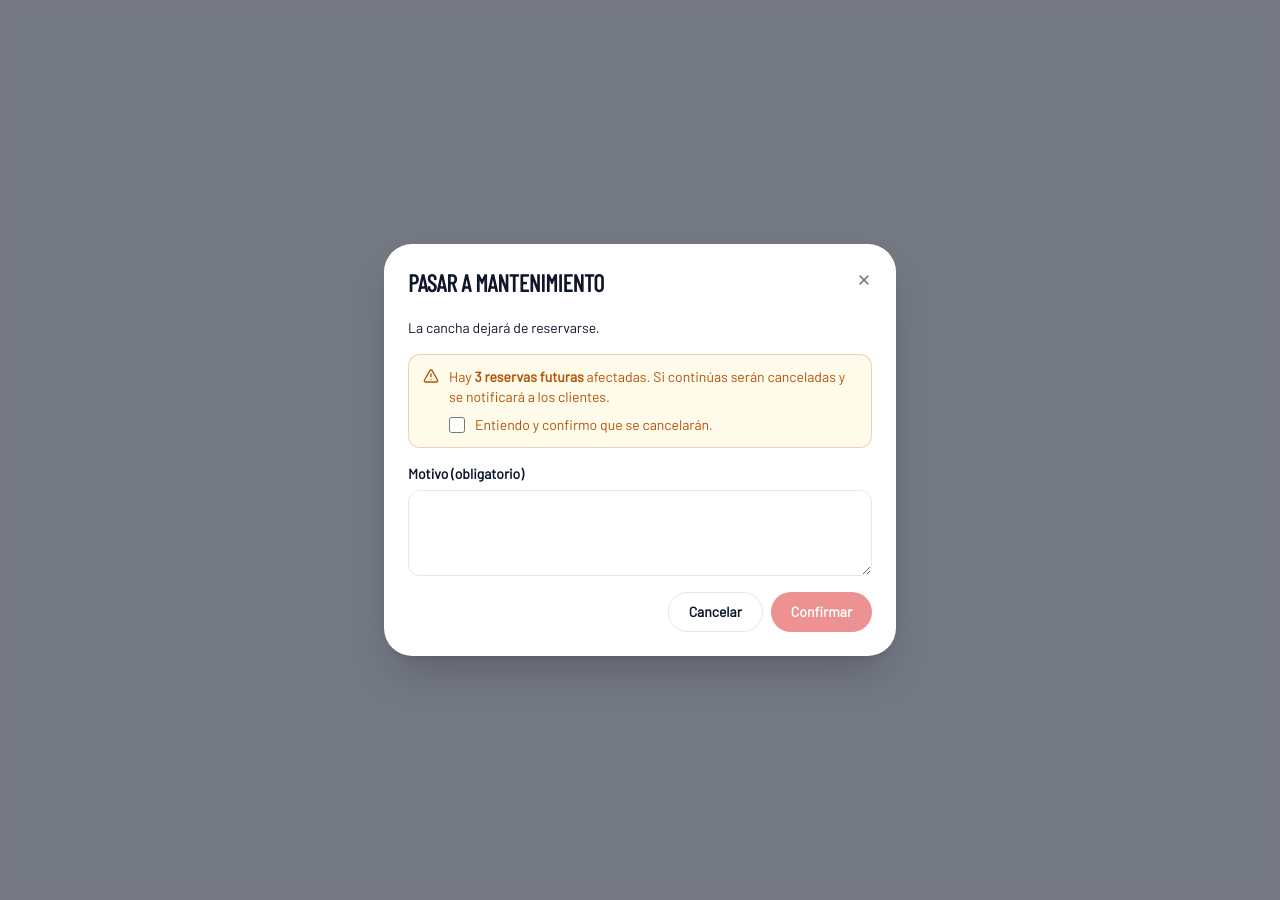
Scenario: ModalCambioEstado › con reservas futuras advierte y exige confirmación explícita
Later steps or results of the test are not shown.
expect the text "3 reservas futuras" is shown: met, box [474,368,584,385]
Type "Mantenimiento general" into the text box labelled "Motivo (obligatorio)" at [640, 533], box [408,490,872,576]
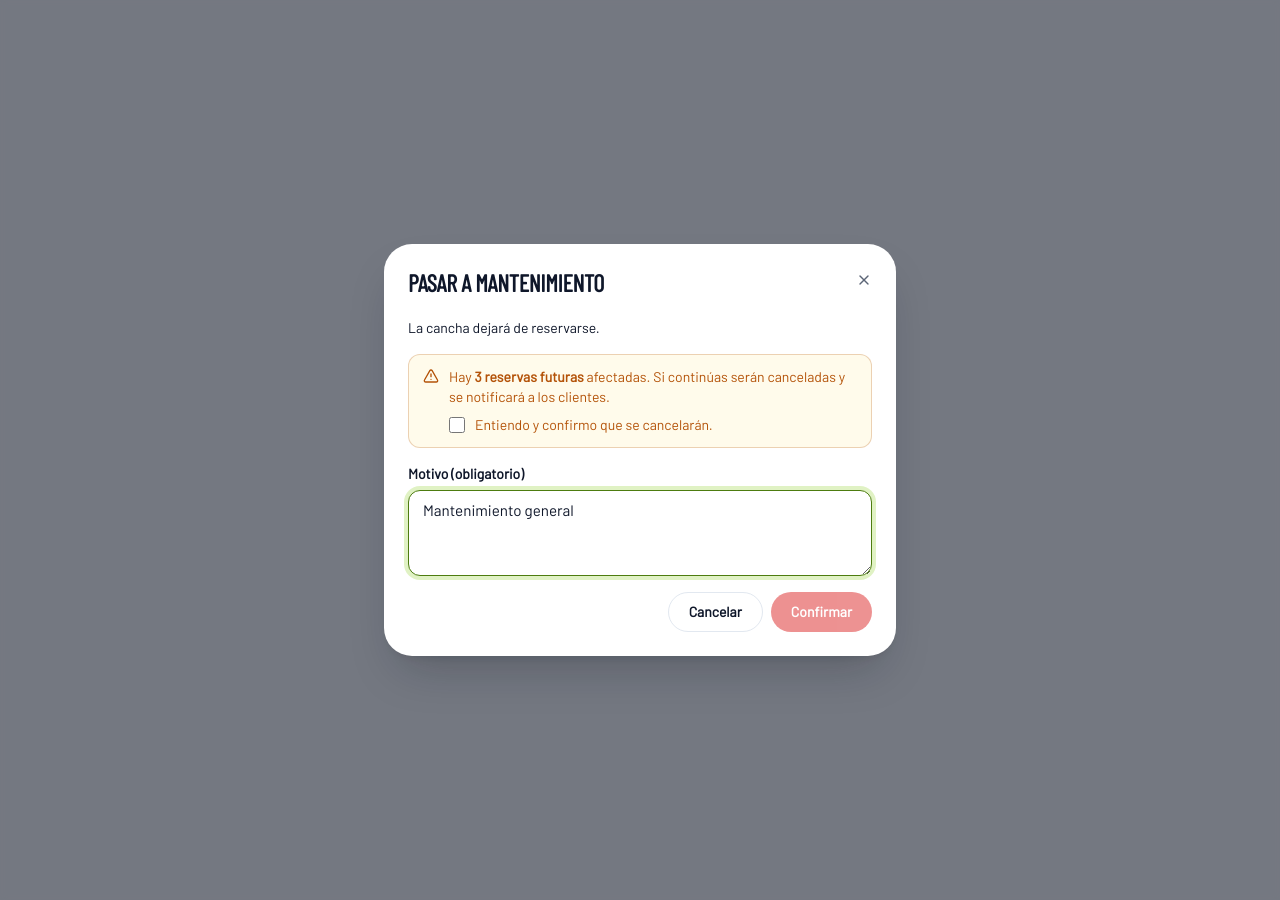
expect the button "Confirmar" is disabled: met, box [771,592,872,632]
Click the checkbox labelled "Entiendo y confirmo que se cancelarán." at [457, 425], box [449,417,465,433]
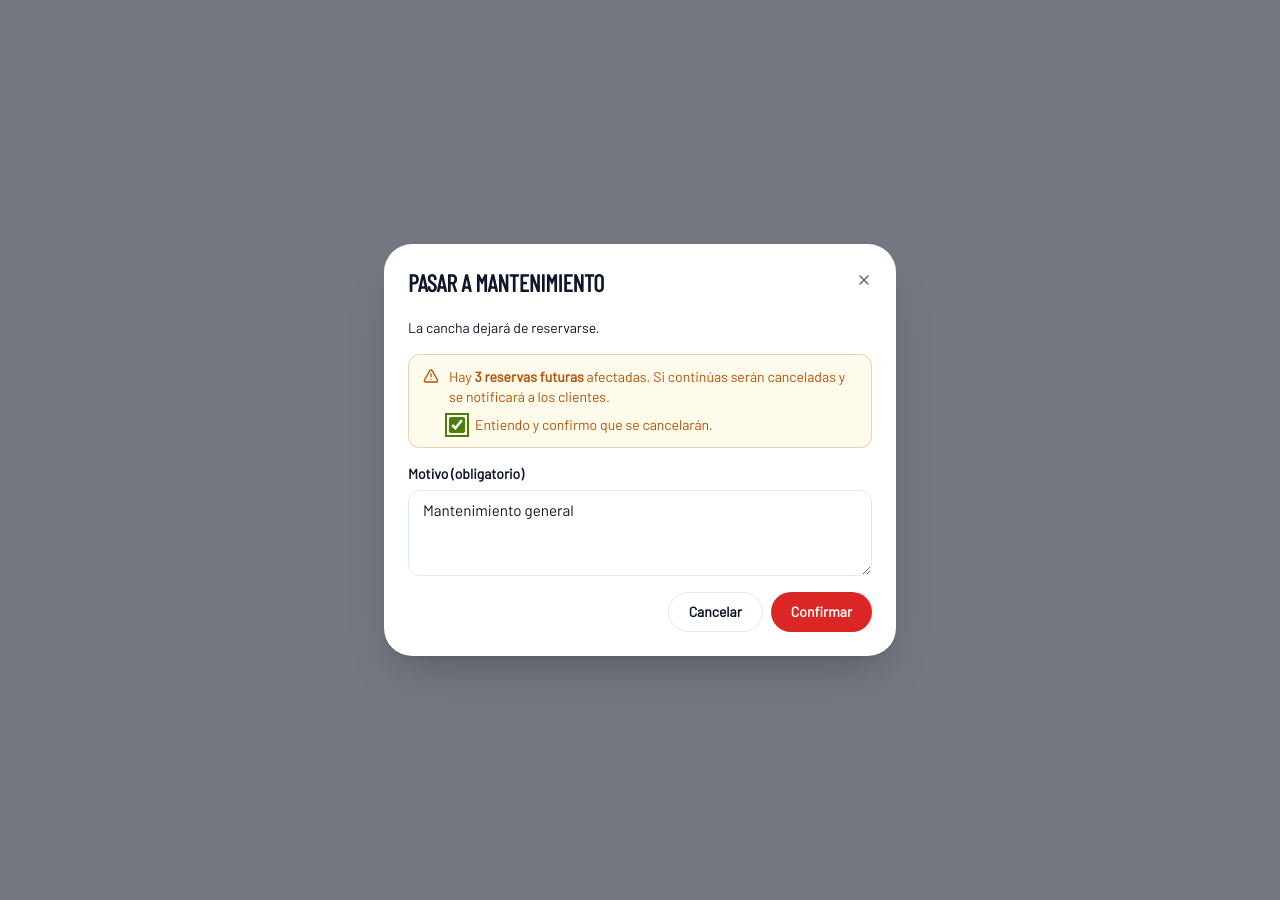
expect the button "Confirmar" is enabled: met, box [771,592,872,632]
